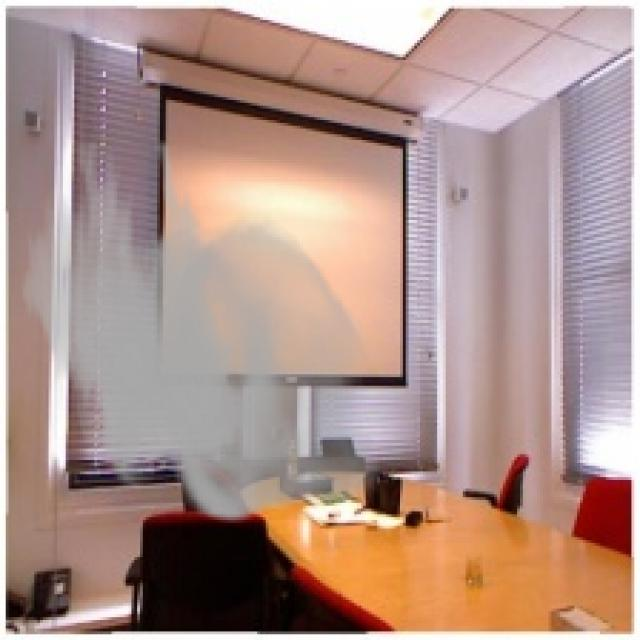smoke: (17, 140, 380, 523)
